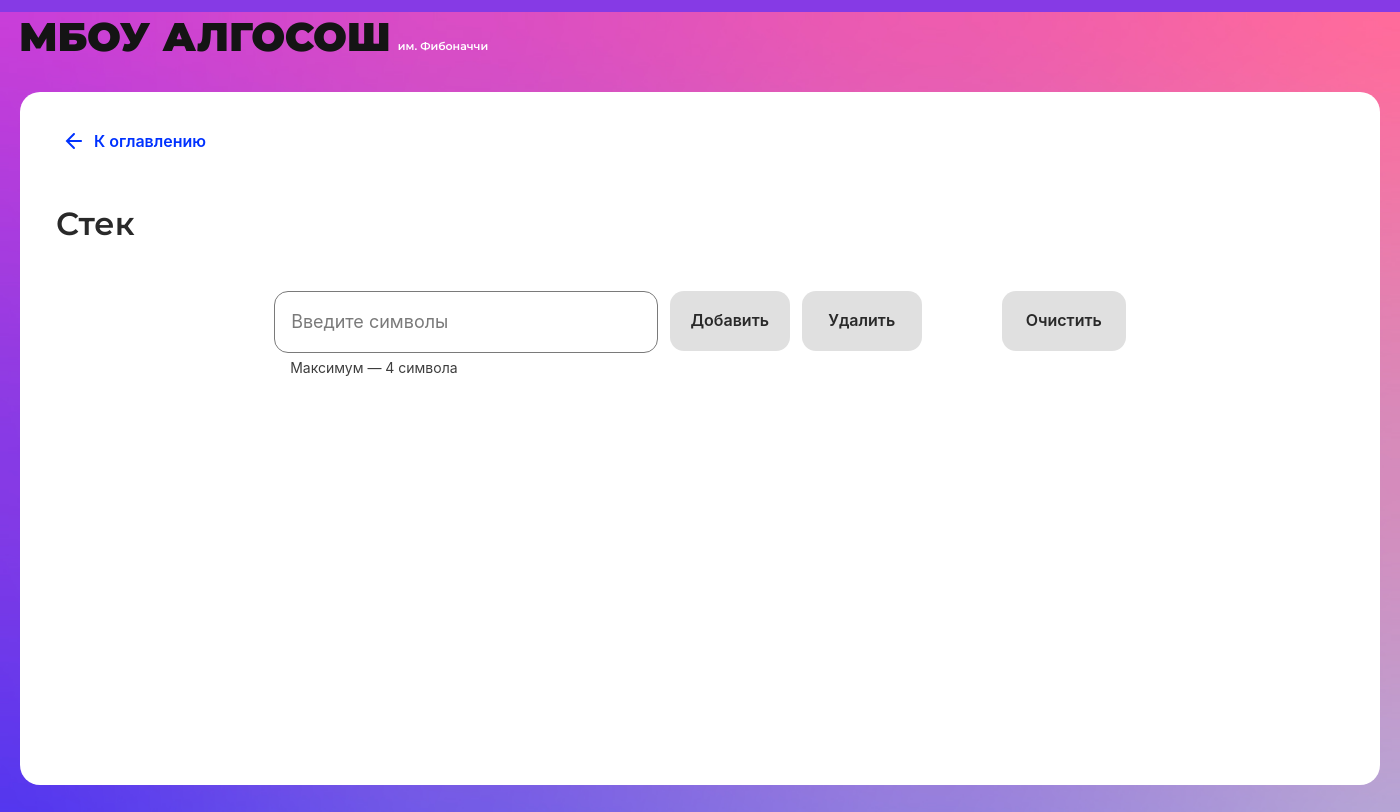
Test: stack page › add element button should be switch disabled state correctly depends on input value
Check: the button with id "add-elem-btn" is disabled, box [670, 291, 790, 351]
Type "1" into the field with placeholder "Введите символы" at (466, 322), box [274, 291, 658, 353]
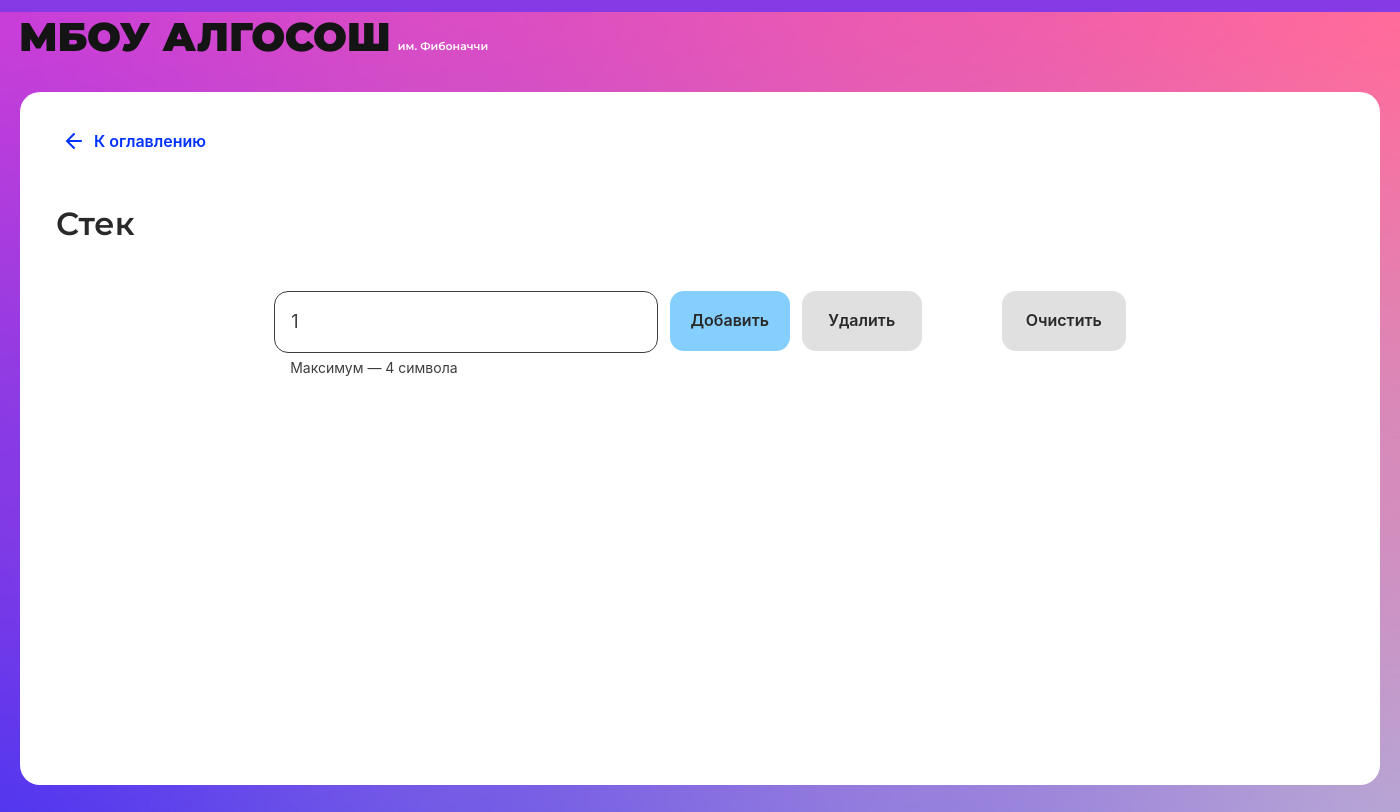
Check: the button with id "add-elem-btn" is enabled, box [670, 291, 790, 351]
